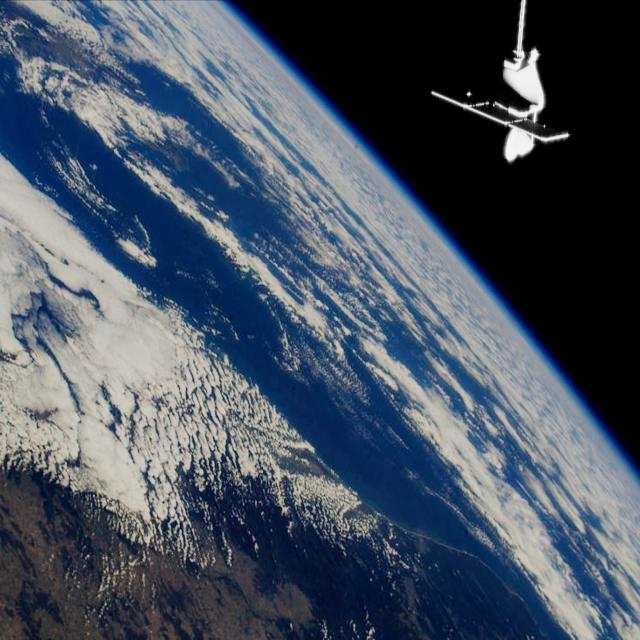satellite: (404, 0, 578, 167)
